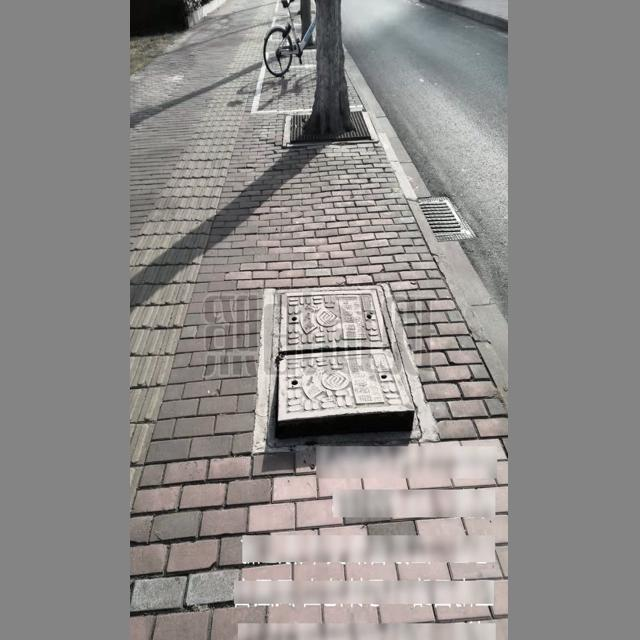uncovered: (265, 287, 422, 453)
